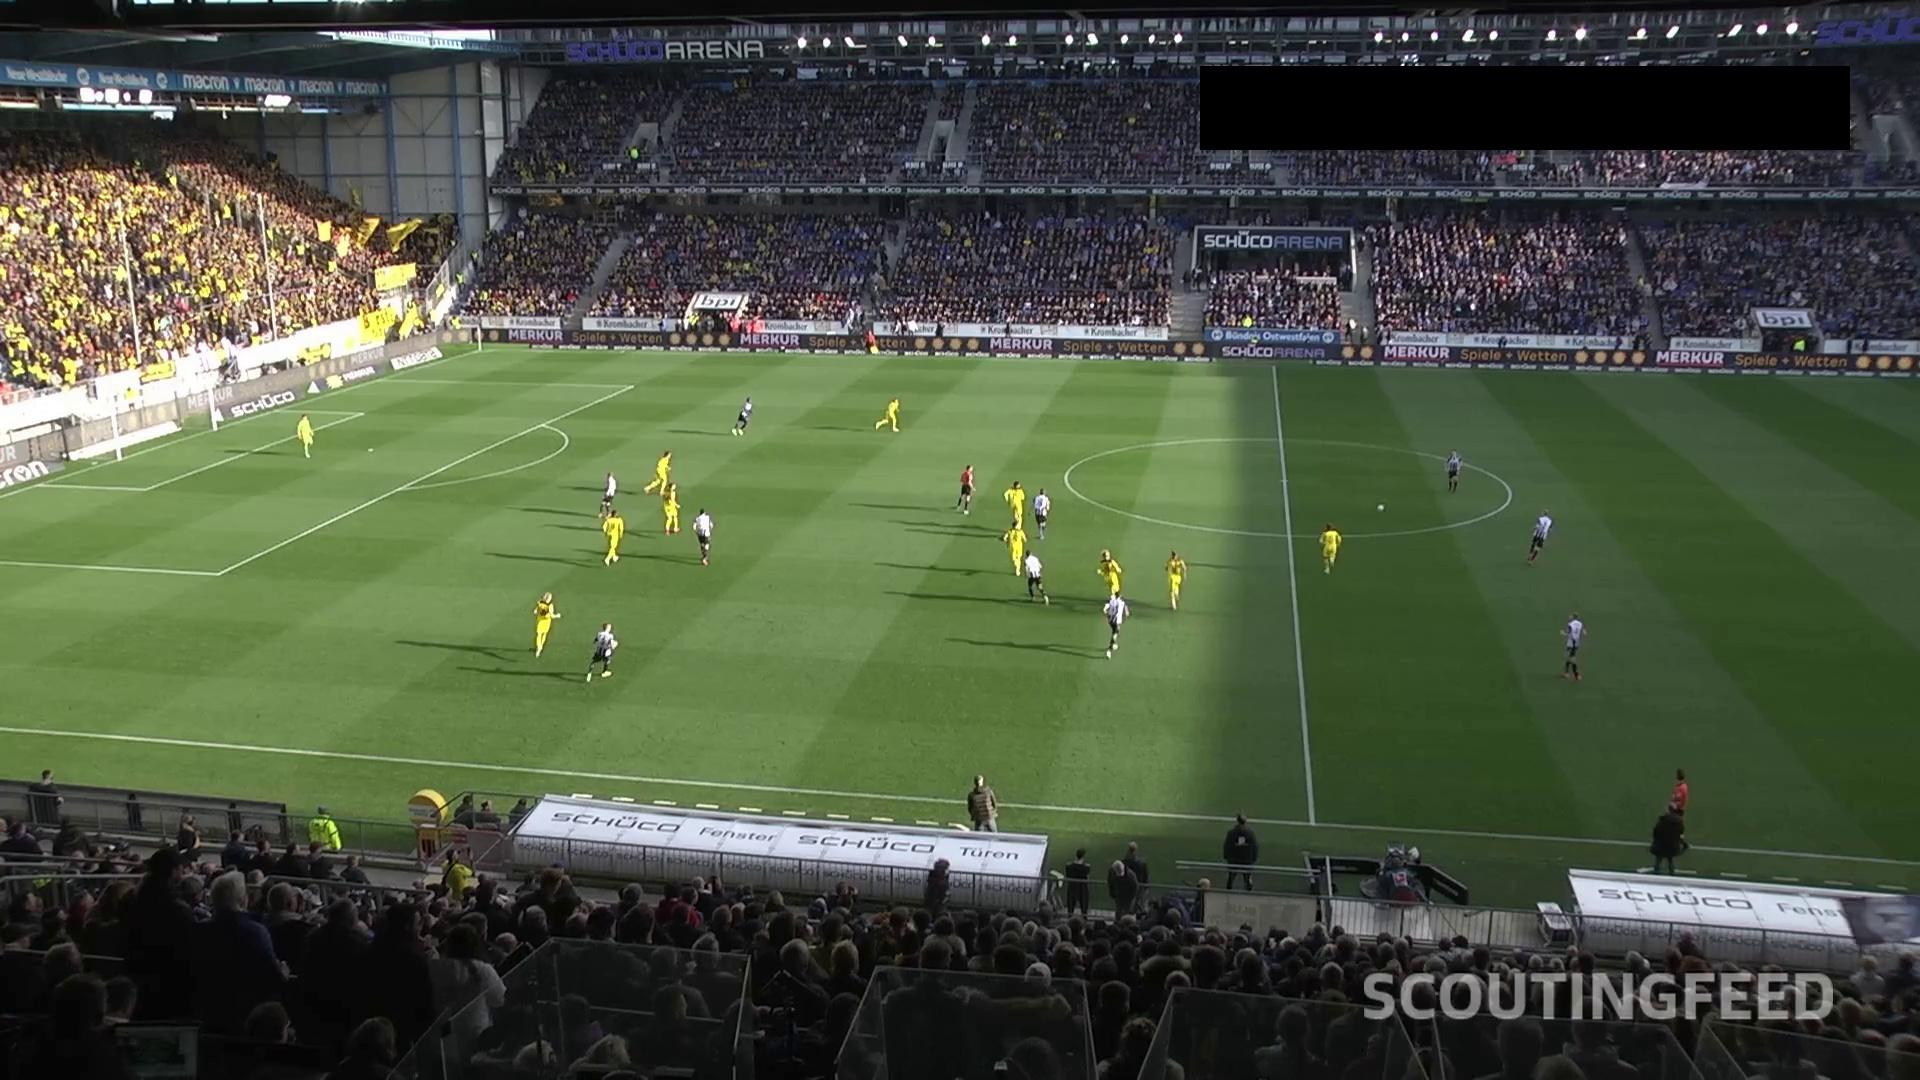Location-of-ball: (1356, 485, 1407, 526)
